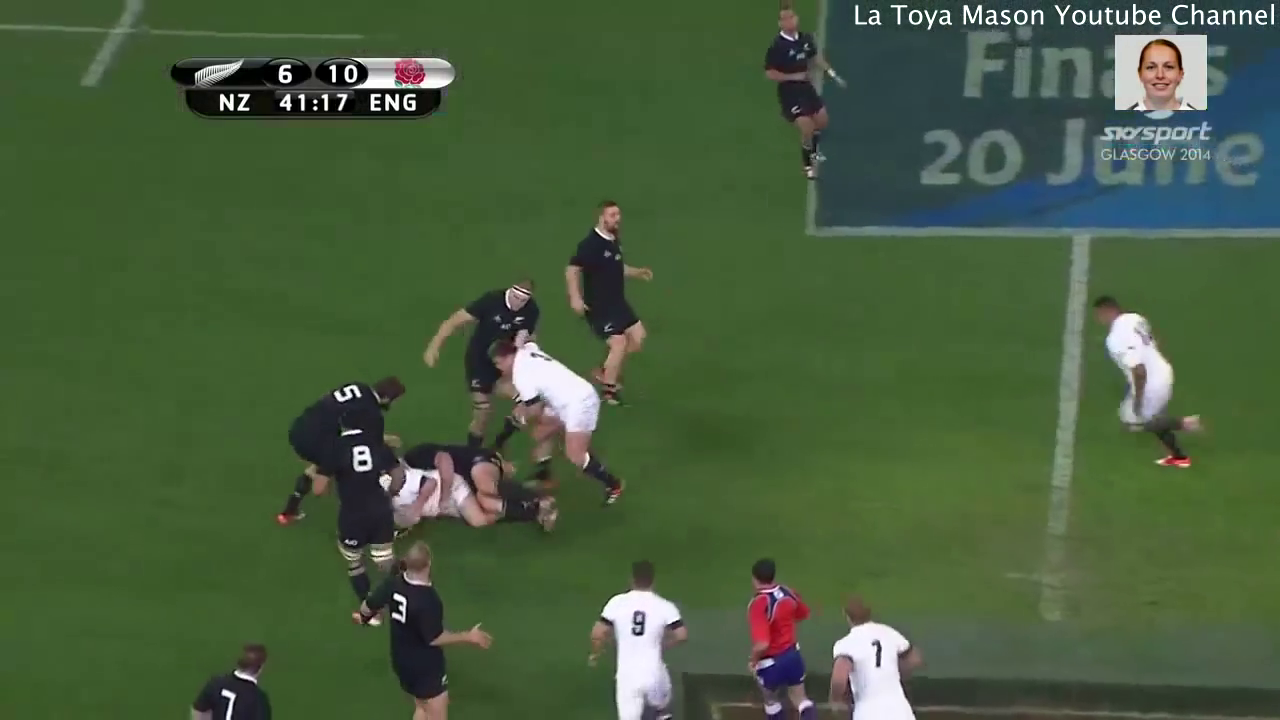10_metre: (1, 1, 365, 93)
player: (481, 335, 632, 512), (1082, 287, 1211, 492), (354, 540, 497, 720), (559, 198, 668, 413), (262, 371, 409, 530), (423, 268, 541, 449), (746, 1, 854, 188), (581, 553, 694, 720), (328, 406, 399, 624), (737, 548, 823, 720), (825, 590, 928, 720), (181, 639, 285, 720)
